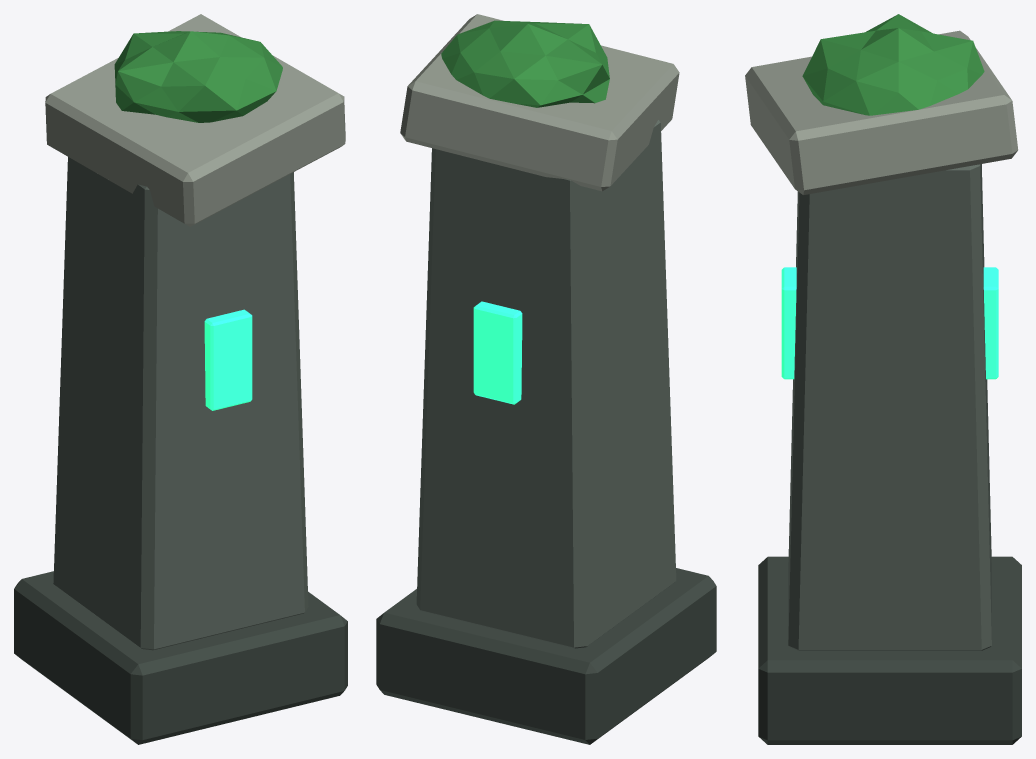
File: EM_AncientRuinPillar.glb
3 views of the same model, side by side, from view 1: azimuth 30°, elevation 25°; view 2: azimuth 150°, elevation 25°; view 3: azimuth 270°, elevation 25° (orthographic). The views are drawn at different scales.
Parts seen in each view (by area): view 1: EM_AncientRuinPillar__StoneBase, EM_AncientRuinPillar__StoneDark, EM_AncientRuinPillar__StoneLight, EM_AncientRuinPillar__MossCap, EM_AncientRuinPillar__JadeGlow; view 2: EM_AncientRuinPillar__StoneBase, EM_AncientRuinPillar__StoneDark, EM_AncientRuinPillar__StoneLight, EM_AncientRuinPillar__MossCap, EM_AncientRuinPillar__JadeGlow; view 3: EM_AncientRuinPillar__StoneBase, EM_AncientRuinPillar__StoneDark, EM_AncientRuinPillar__StoneLight, EM_AncientRuinPillar__MossCap, EM_AncientRuinPillar__JadeGlow.
Boxes of the visible parts, x1,y1,x2,y2 form: EM_AncientRuinPillar__StoneBase: [53, 157, 308, 650]; EM_AncientRuinPillar__StoneDark: [14, 571, 347, 744]; EM_AncientRuinPillar__StoneLight: [45, 14, 345, 226]; EM_AncientRuinPillar__MossCap: [114, 31, 282, 122]; EM_AncientRuinPillar__JadeGlow: [204, 309, 252, 410]; EM_AncientRuinPillar__StoneBase: [416, 119, 676, 648]; EM_AncientRuinPillar__StoneDark: [376, 568, 716, 744]; EM_AncientRuinPillar__StoneLight: [400, 14, 679, 191]; EM_AncientRuinPillar__MossCap: [441, 20, 609, 107]; EM_AncientRuinPillar__JadeGlow: [473, 301, 522, 404]; EM_AncientRuinPillar__StoneBase: [788, 164, 991, 650]; EM_AncientRuinPillar__StoneDark: [758, 556, 1021, 744]; EM_AncientRuinPillar__StoneLight: [745, 30, 1018, 194]; EM_AncientRuinPillar__MossCap: [802, 14, 984, 115]; EM_AncientRuinPillar__JadeGlow: [781, 267, 998, 379].
Bounding box in the file's own units: 6.63 × 17.45 × 6.51.
